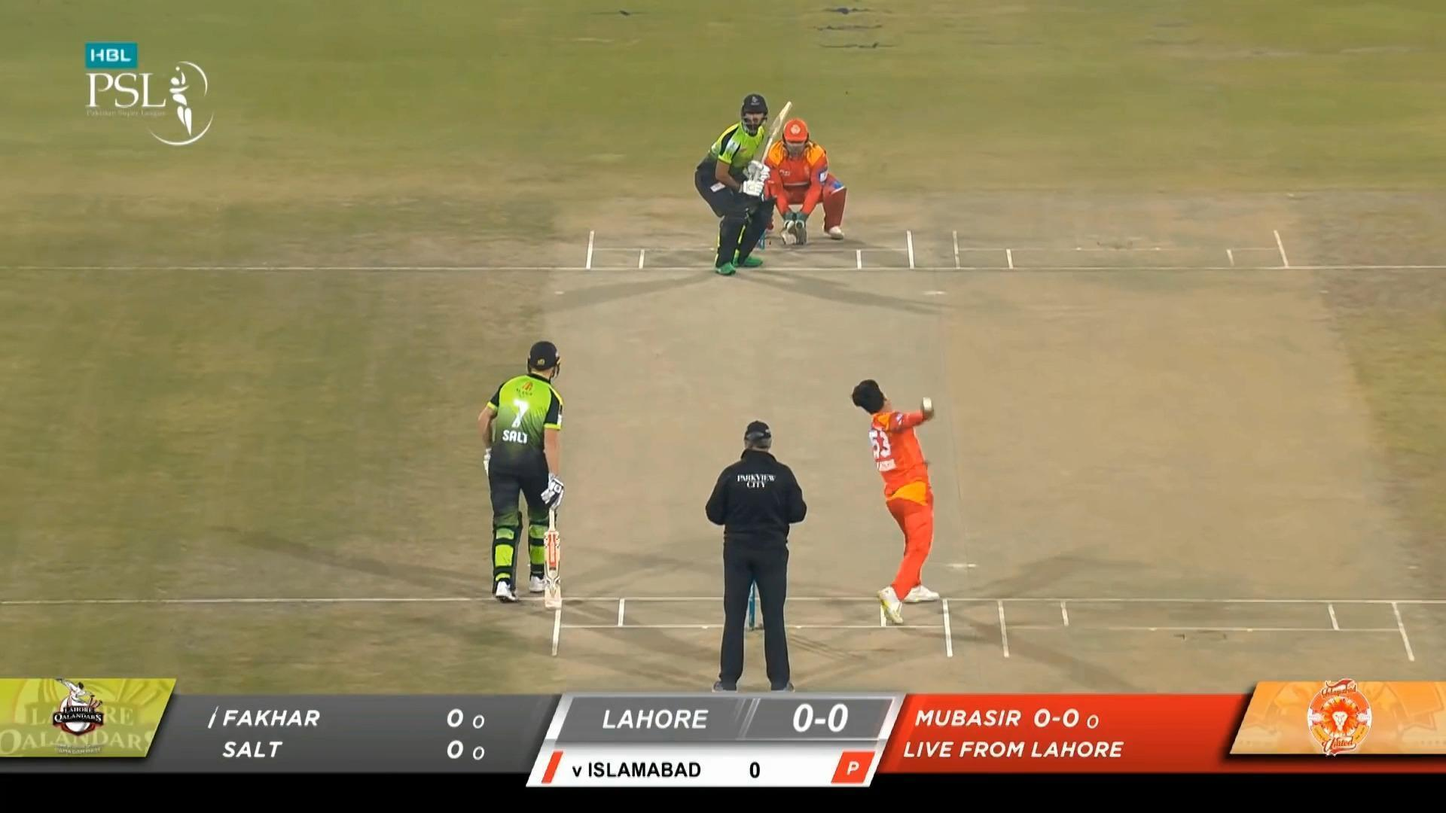BM 1: (694, 93, 795, 277)
BO: (849, 376, 942, 625)
